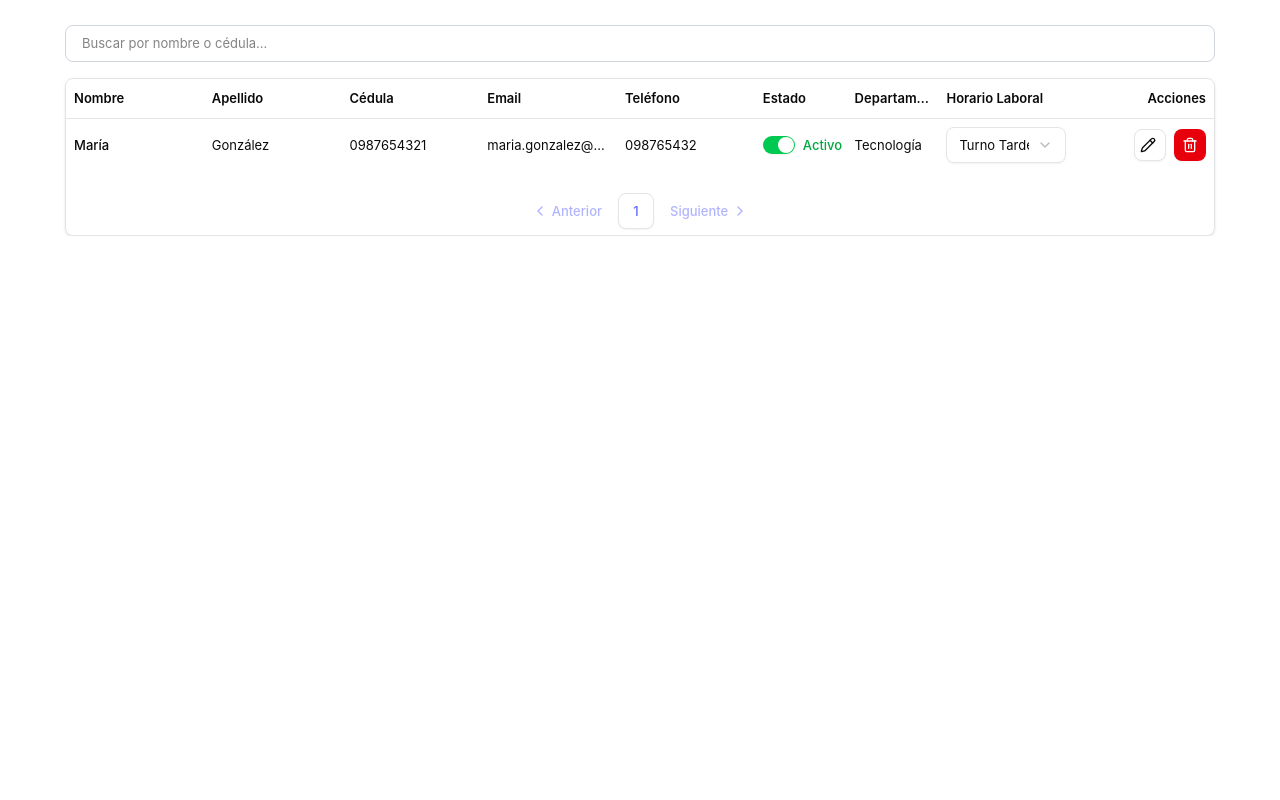
Test: VerUsuario › Muestra una ventana de dialogo de confirmación para eliminar un usuario
Expected: the row that starts with "María" is shown, [66,119,1214,171]
Click the button named "eliminar usuario" at [1190, 145], box [1174,129,1206,161]
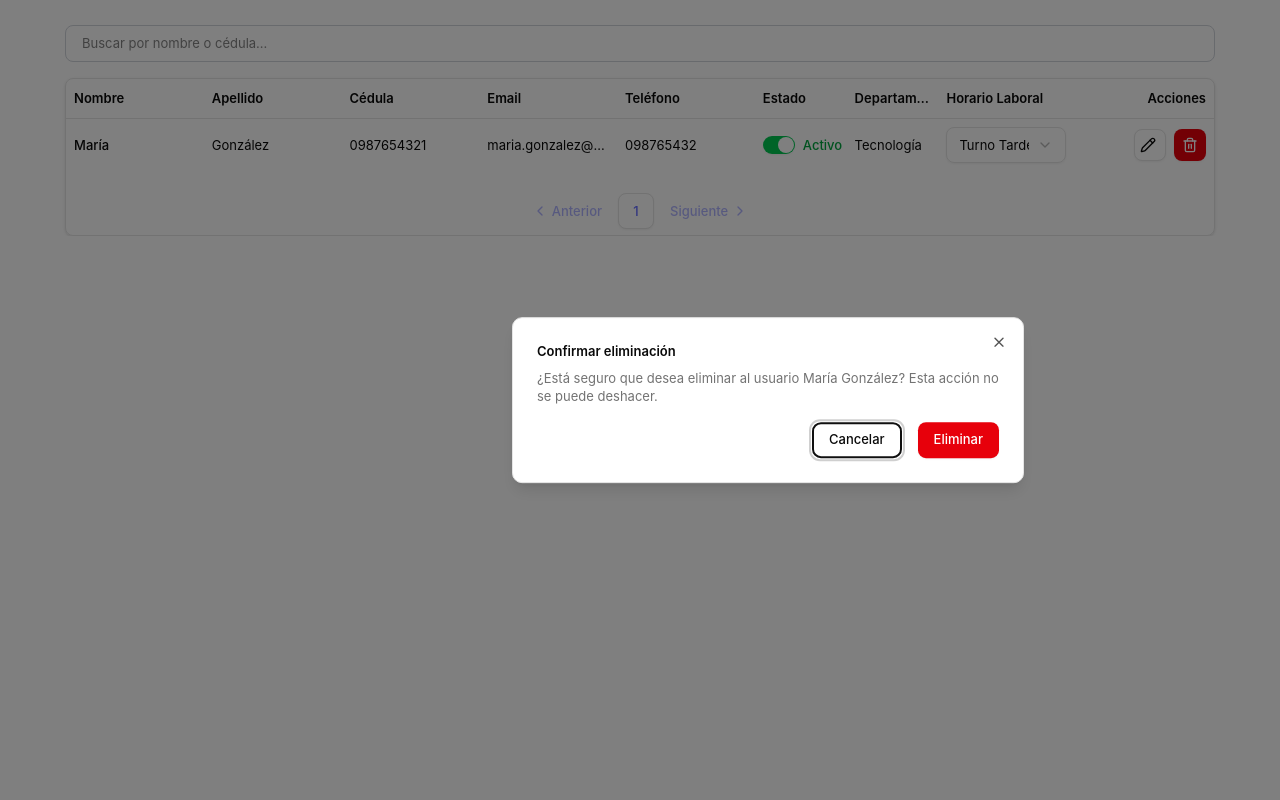
Now the dialog is shown, box [512,317,1024,483]
Now the heading "Confirmar eliminación" is shown, box [537,343,676,359]
Now the text "¿Está seguro que desea eliminar" is shown, box [537,370,799,386]
Click the button "Eliminar" at [958, 440], box [918,422,999,458]
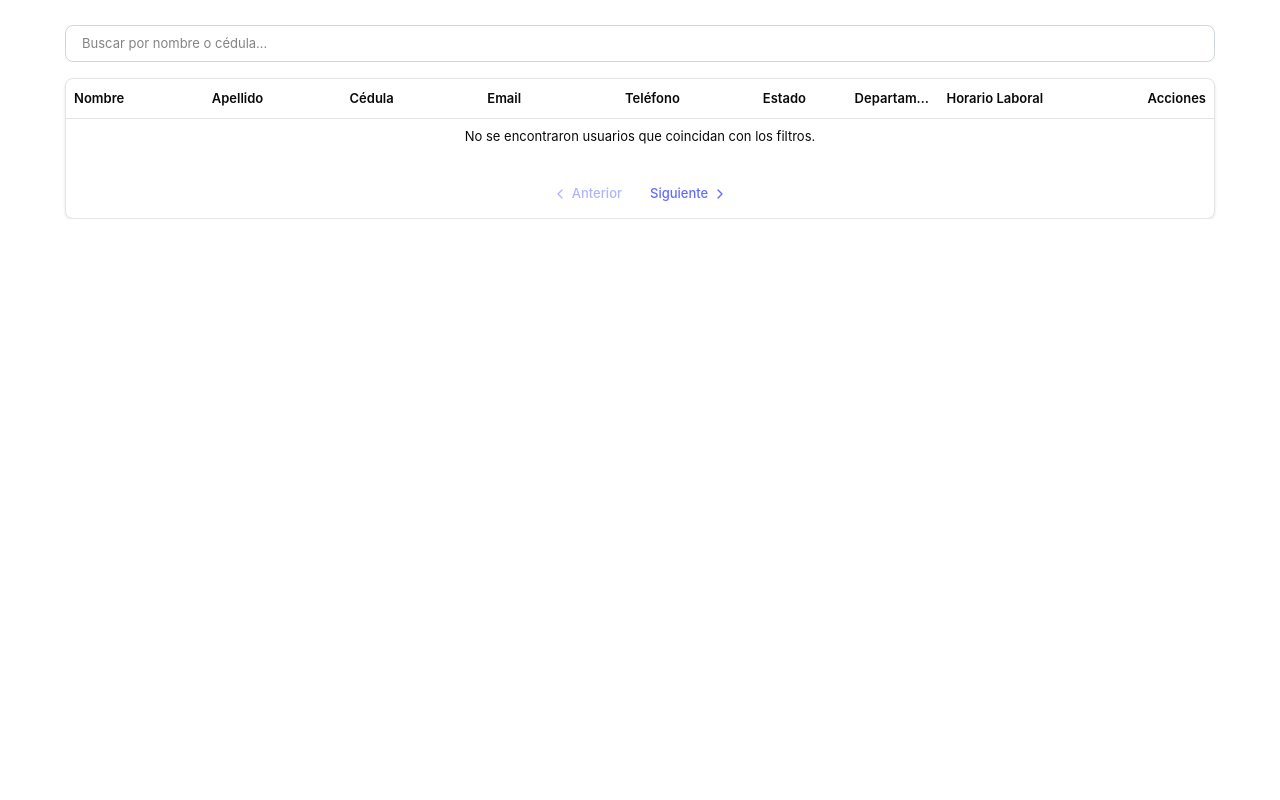
Now the text "María" is gone
